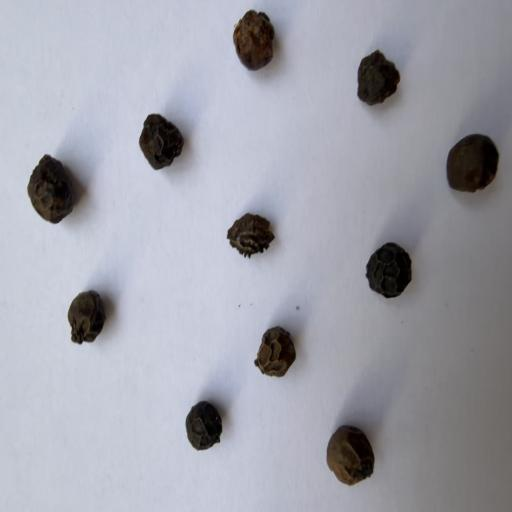Black_pepper: (426, 109, 512, 213), (300, 414, 394, 497), (348, 211, 418, 317), (218, 5, 298, 86), (237, 305, 312, 390), (14, 144, 92, 225), (128, 89, 188, 186), (58, 265, 120, 356), (352, 33, 416, 114), (181, 368, 231, 462)
papaya_seed: (206, 178, 304, 280)
